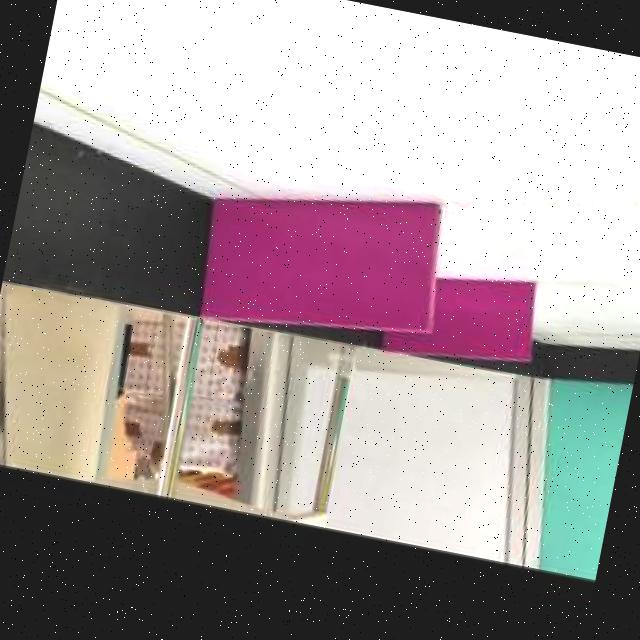xparking: (202, 198, 439, 330), (430, 278, 532, 359)
